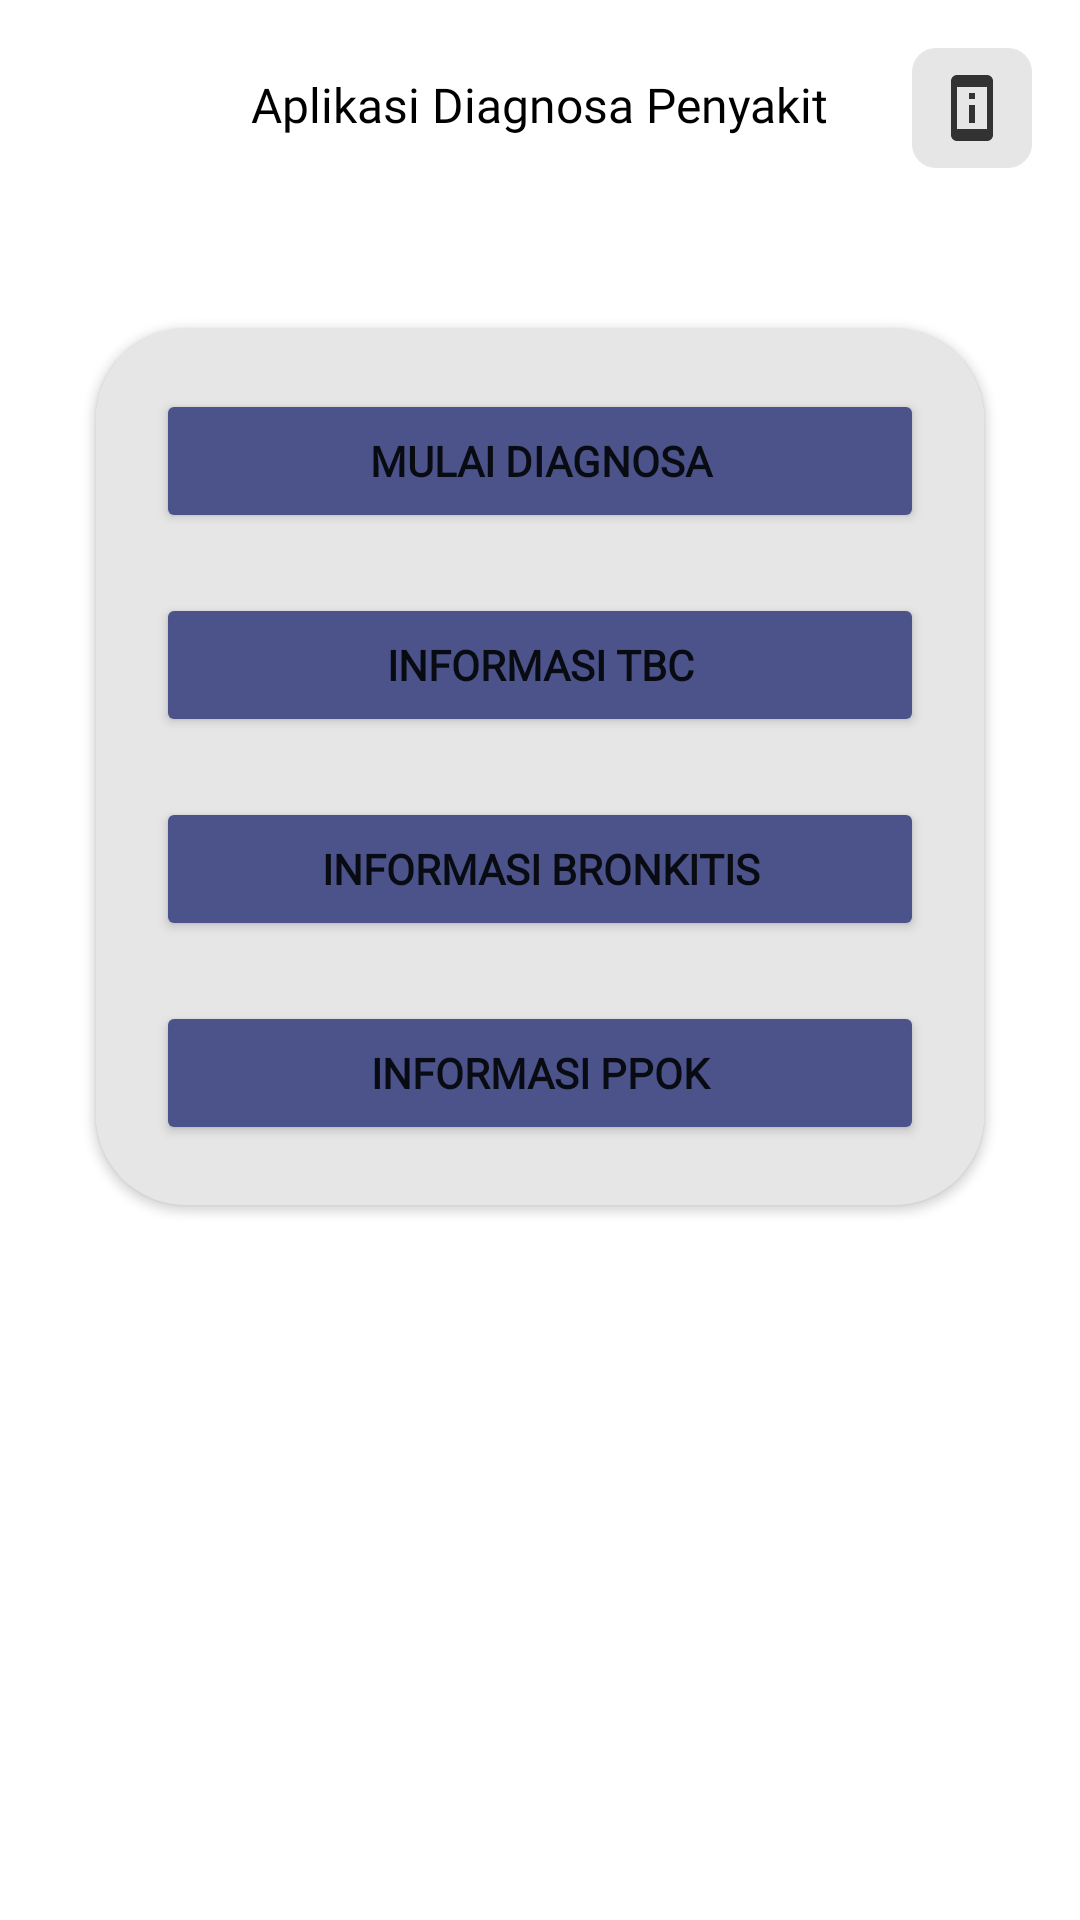

Screen size 1080x1920. Icon name, then its center in pixels as (x,y):
device information: (972,108)
